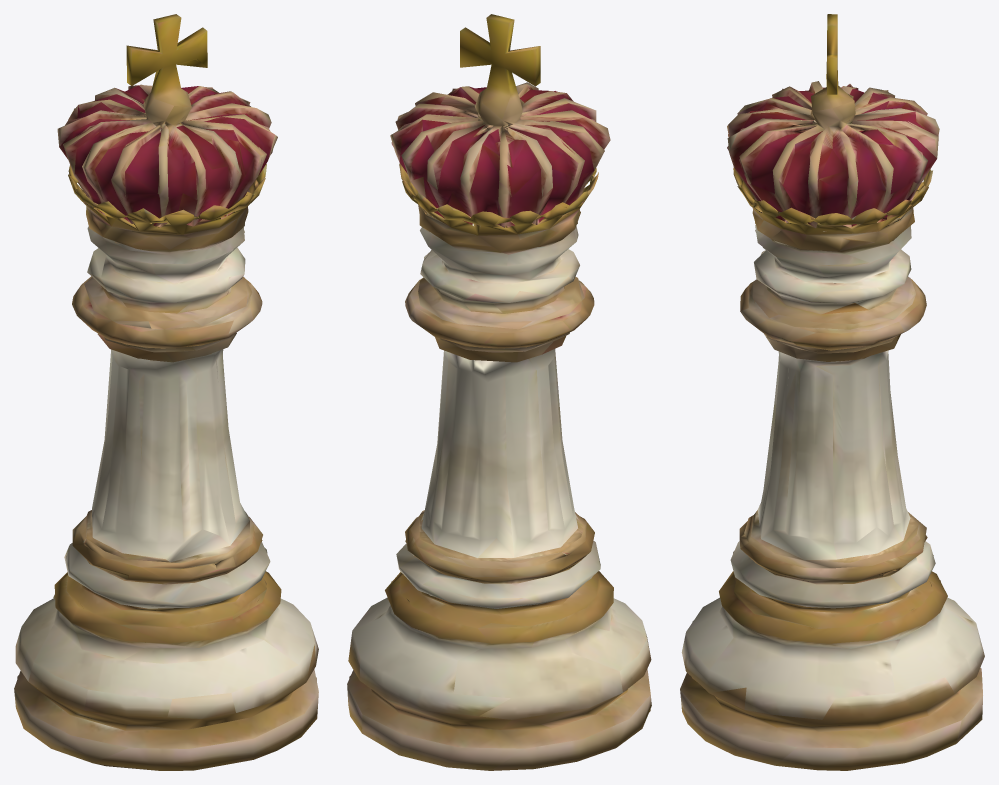
File: king-classic-re-10k.glb
The picture shows the model from 3 angles, left to right: view 1: azimuth 30°, elevation 25°; view 2: azimuth 150°, elevation 25°; view 3: azimuth 270°, elevation 25°; orthographic projection.
Parts seen in each view (by area): view 1: world; view 2: world; view 3: world.
Boxes of the visible parts, bbox=[...] form: world: bbox=[14, 14, 318, 770]; world: bbox=[347, 14, 651, 770]; world: bbox=[680, 14, 984, 770].
Size of the model in its own units: 0.7211 by 1.8 by 0.7234.
Materials: 1 (1 with a texture image).
